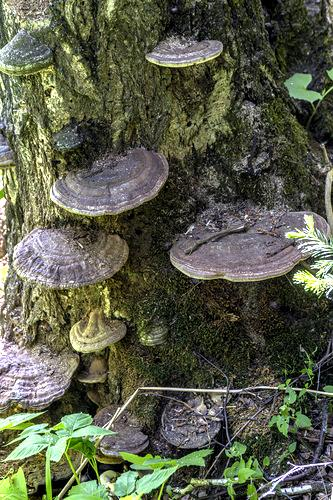Ganoderma - Fruit Body: (170, 200, 333, 284), (49, 140, 165, 217), (10, 226, 127, 286), (0, 350, 78, 402), (149, 25, 225, 77), (164, 384, 222, 448), (93, 402, 152, 456), (0, 29, 60, 70), (76, 314, 127, 356)
